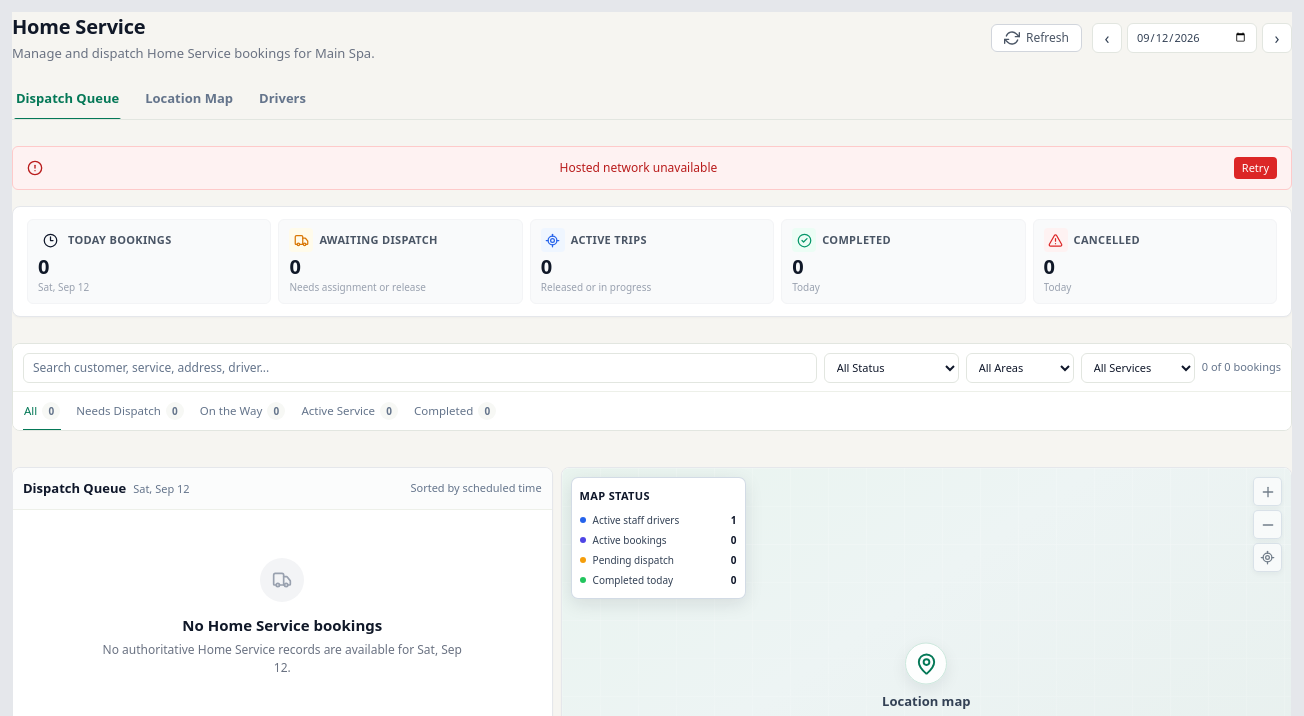
HomeServiceView Component Suite › 14. displays error banner on API failure and retries on click
Expected: the text "Hosted network unavailable" is shown, [560, 159, 717, 177]
What coordinates should you click on to do the following:
click the button "Retry"
I would click on:
 (1255, 168)
Its box is [1234, 156, 1277, 179].
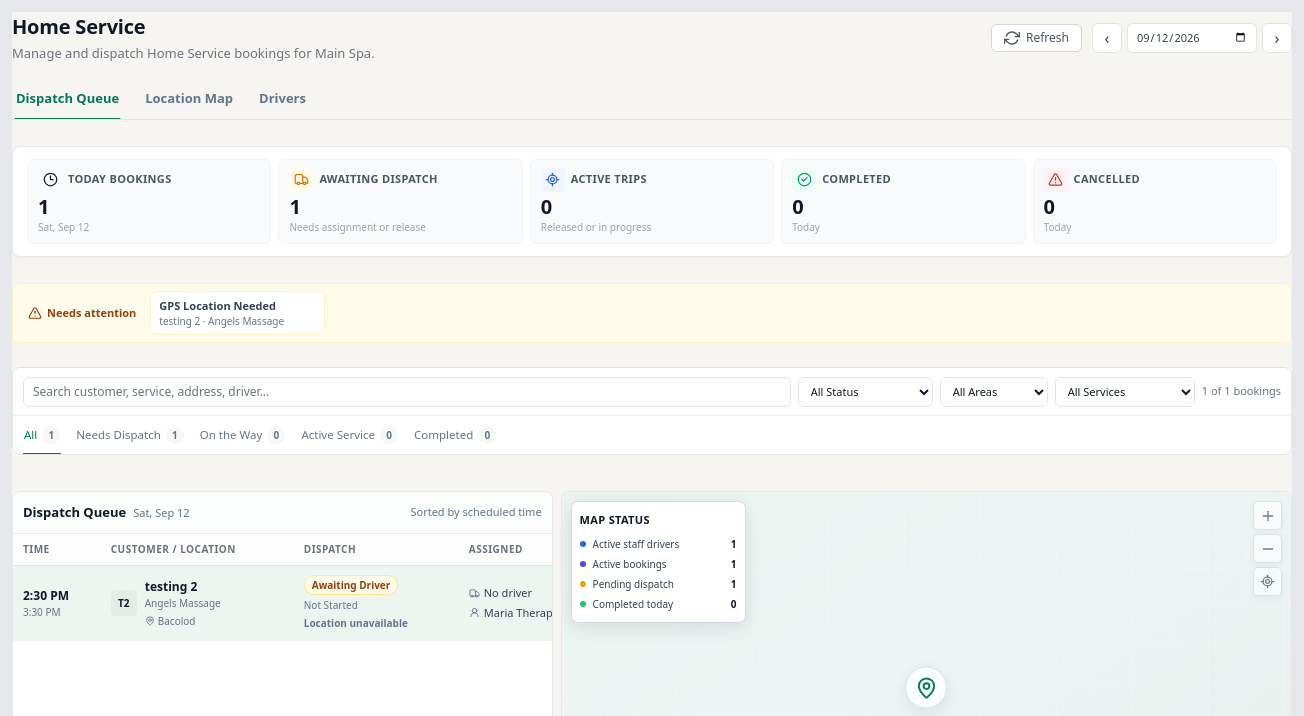
Expected: the element with test id "home-service-queue-grid" is shown, [13, 534, 553, 640]
Result: the text "testing 2" is shown at [145, 578, 197, 594]
